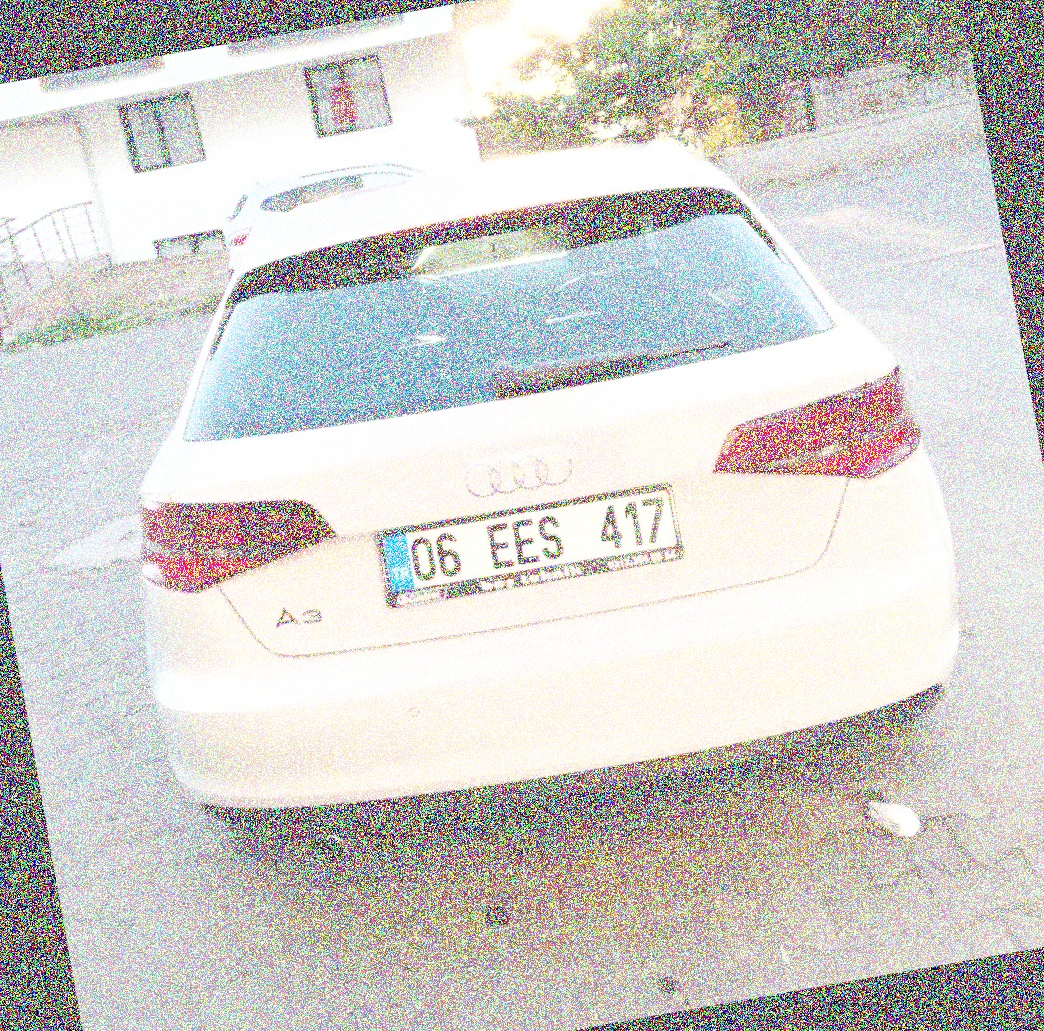plaka: (406, 495, 684, 585)
